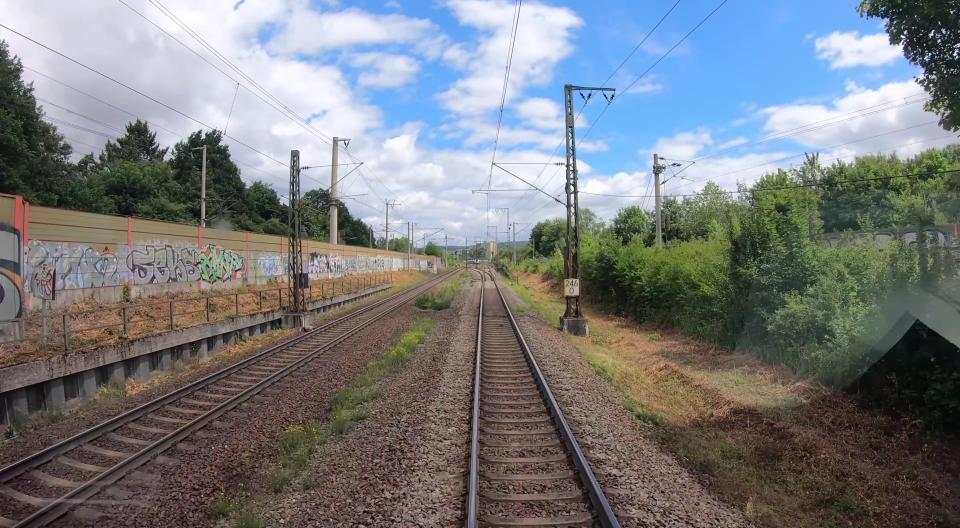Plant: (331, 320, 430, 434), (270, 421, 332, 494), (415, 278, 462, 310), (235, 512, 268, 528), (209, 500, 236, 517), (303, 473, 318, 490), (511, 302, 528, 314)
